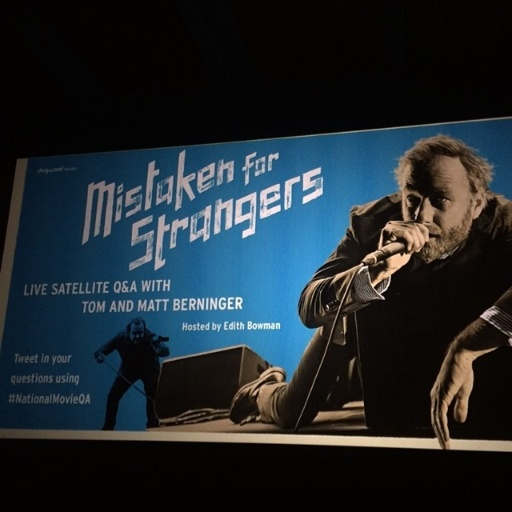hand: (429, 347, 477, 451), (380, 217, 431, 276)
